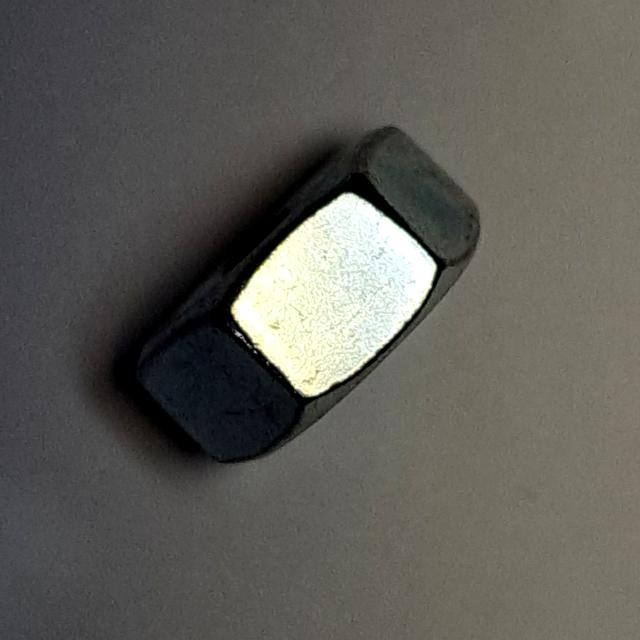Side_Excellent: (98, 113, 506, 480)
